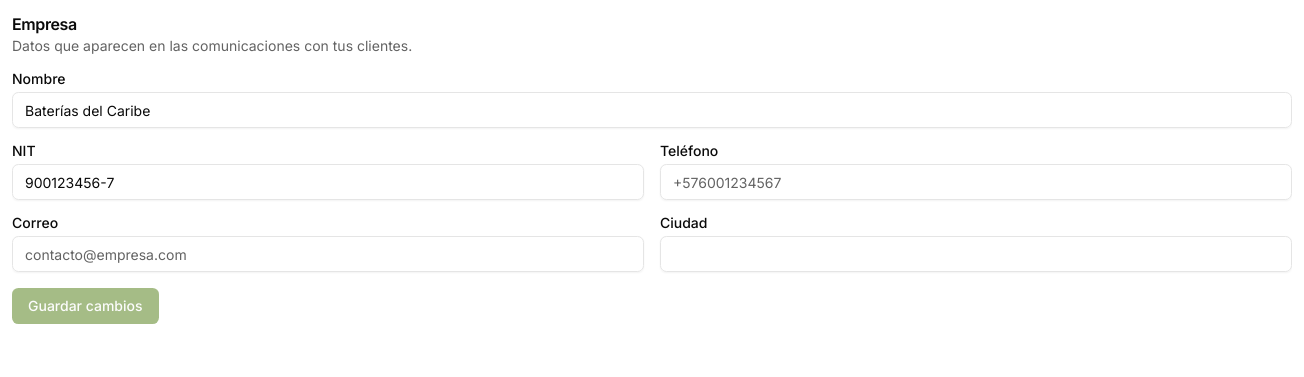
Scenario: EmpresaSection › muestra el mensaje del ApiError sin perder lo escrito
The width and height of the screenshot is (1304, 377).
Expected: the field showing "Baterías del Caribe" is shown, [12,92,1292,128]
Type "Cali" into the field labelled "Ciudad" at (976, 254), box [660,236,1292,272]
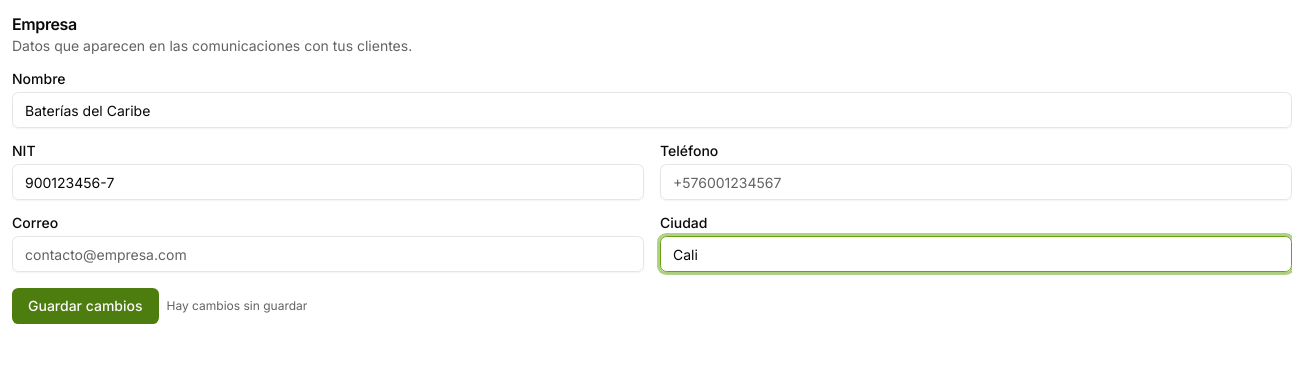
Click the button "Guardar cambios" at (85, 306), box [12,288,158,324]
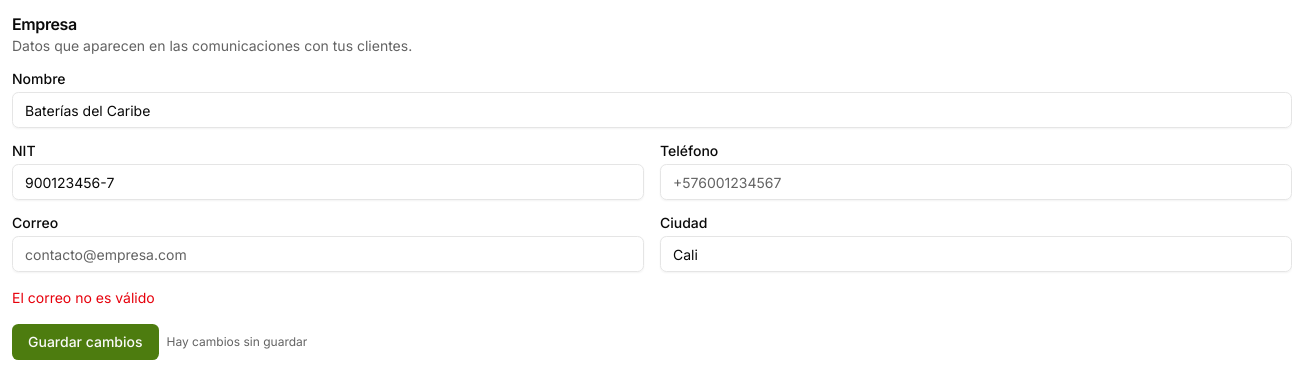
Now the message reads "El correo no es válido", box [12,289,155,306]
